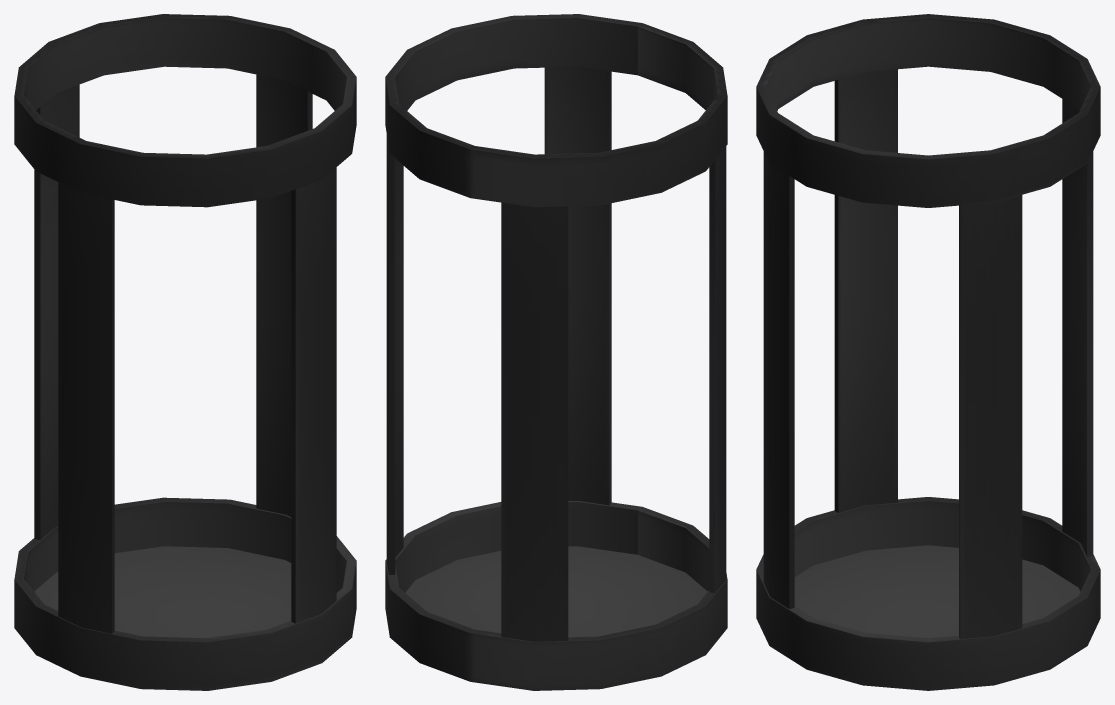
The model's file is GlassfulExtinguisher.fbx.
3 renders of one model, left to right at view 1: azimuth 30°, elevation 25°; view 2: azimuth 150°, elevation 25°; view 3: azimuth 270°, elevation 25°, orthographic.
Parts seen in each view (by area): view 1: GlassfulExtinguisher; view 2: GlassfulExtinguisher; view 3: GlassfulExtinguisher.
Part boxes in pixels (x1,y1,x2,y2): GlassfulExtinguisher: (14,14,356,690); GlassfulExtinguisher: (385,14,727,690); GlassfulExtinguisher: (756,14,1100,690).
Bounding box in the file's own units: 21.57 × 36.71 × 21.57.
